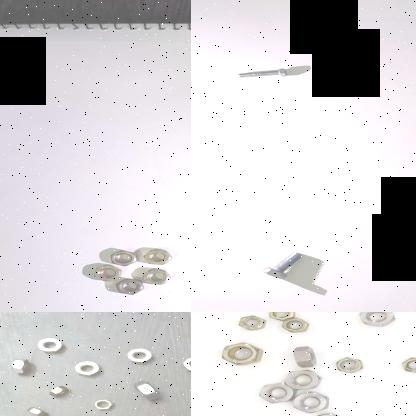Bolts: (258, 250, 308, 282), (232, 62, 300, 82)
NUTS: (218, 342, 266, 366), (255, 380, 297, 404), (288, 392, 332, 414), (282, 367, 320, 391), (128, 380, 166, 402), (291, 342, 319, 370), (112, 276, 148, 297), (354, 312, 398, 328), (136, 268, 172, 286), (33, 336, 67, 355), (139, 248, 171, 268), (233, 312, 266, 331), (92, 264, 122, 284), (107, 249, 137, 269), (332, 356, 364, 374), (278, 316, 308, 335), (6, 357, 35, 375), (71, 360, 101, 376), (123, 347, 153, 363), (90, 398, 118, 414), (397, 354, 416, 374), (46, 385, 74, 398), (23, 404, 49, 416), (265, 312, 295, 322), (178, 354, 191, 376), (310, 412, 343, 416)
